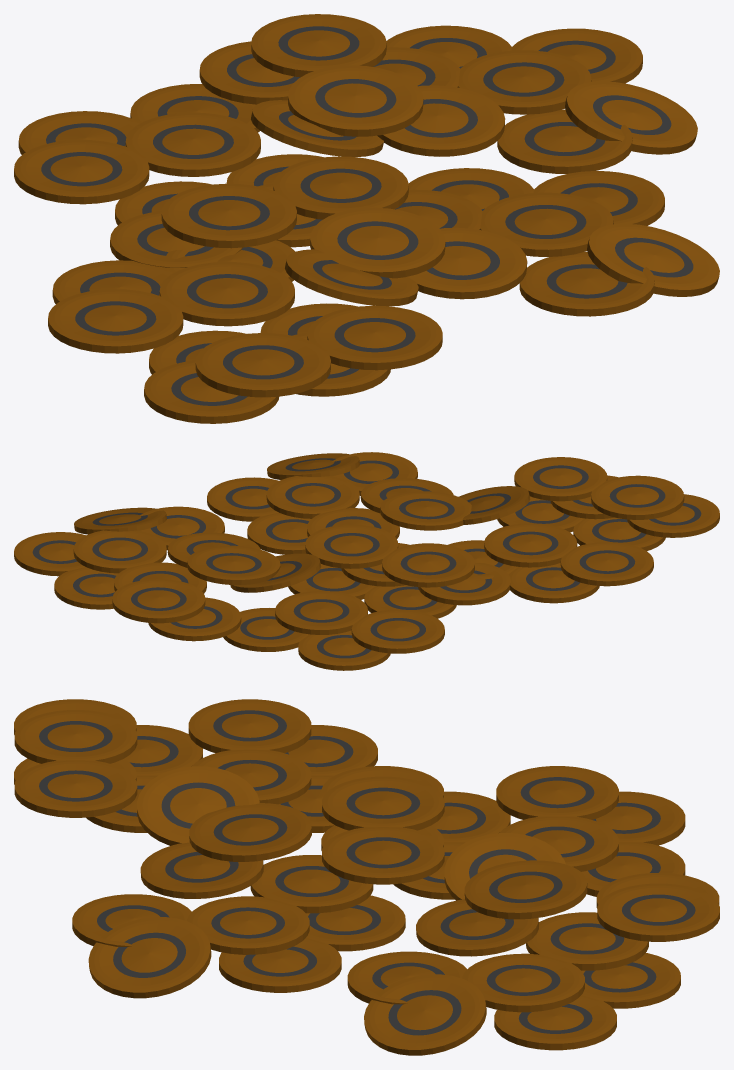
The model's file is coins pile.fbx.
3 views of the same model, one above another, from view 1: azimuth 30°, elevation 25°; view 2: azimuth 150°, elevation 25°; view 3: azimuth 270°, elevation 25° (orthographic). The views are drawn at different scales.
Parts seen in each view (by area): view 1: Cylinder.033, Cylinder.022, Cylinder.021, Cylinder.016, Cylinder.009, Cylinder.004, Cylinder.006, Cylinder.018, Cylinder.013, Cylinder.036, Cylinder.026, Cylinder.031 (+28 smaller); view 2: Cylinder.031, Cylinder.009, Cylinder.004, Cylinder.021, Cylinder.016, Cylinder.018, Cylinder.006, Cylinder.001, Cylinder.013, Cylinder.035, Cylinder.025, Cylinder.033 (+28 smaller); view 3: Cylinder.036, Cylinder.026, Cylinder.019, Cylinder.031, Cylinder.033, Cylinder.013, Cylinder.001, Cylinder.022, Cylinder.025, Cylinder.035, Cylinder.016, Cylinder.004 (+26 smaller).
Part boxes in pixels (left/top/right/bottom): Cylinder.033: left=288, top=65, right=423, bottom=136; Cylinder.022: left=310, top=207, right=445, bottom=278; Cylinder.021: left=48, top=289, right=183, bottom=353; Cylinder.016: left=195, top=333, right=330, bottom=397; Cylinder.009: left=14, top=139, right=149, bottom=204; Cylinder.004: left=161, top=183, right=296, bottom=248; Cylinder.006: left=125, top=112, right=260, bottom=176; Cylinder.018: left=159, top=262, right=294, bottom=326; Cylinder.013: left=307, top=305, right=442, bottom=370; Cylinder.036: left=565, top=81, right=697, bottom=154; Cylinder.026: left=587, top=223, right=719, bottom=296; Cylinder.031: left=251, top=14, right=386, bottom=77; Cylinder.031: left=112, top=579, right=205, bottom=623; Cylinder.009: left=351, top=609, right=444, bottom=653; Cylinder.004: left=382, top=543, right=474, bottom=587; Cylinder.021: left=560, top=542, right=653, bottom=586; Cylinder.016: left=591, top=475, right=684, bottom=519; Cylinder.018: left=484, top=523, right=577, bottom=567; Cylinder.006: left=275, top=590, right=367, bottom=634; Cylinder.001: left=305, top=524, right=398, bottom=568; Cylinder.013: left=514, top=457, right=607, bottom=501; Cylinder.035: left=73, top=530, right=166, bottom=573; Cylinder.025: left=266, top=476, right=359, bottom=518; Cylinder.033: left=187, top=545, right=280, bottom=584; Cylinder.036: left=364, top=974, right=486, bottom=1055; Cylinder.026: left=88, top=917, right=211, bottom=998; Cylinder.019: left=137, top=766, right=259, bottom=845; Cylinder.031: left=597, top=883, right=719, bottom=941; Cylinder.033: left=464, top=860, right=587, bottom=919; Cylinder.013: left=14, top=760, right=137, bottom=817; Cylinder.001: left=322, top=827, right=444, bottom=884; Cylinder.022: left=189, top=803, right=311, bottom=861; Cylinder.025: left=187, top=896, right=309, bottom=954; Cylinder.035: left=462, top=953, right=584, bottom=1012; Cylinder.016: left=14, top=710, right=137, bottom=763; Cylinder.004: left=322, top=776, right=444, bottom=830.
Bounding box in the file's own units: 427 × 37.21 × 386.
